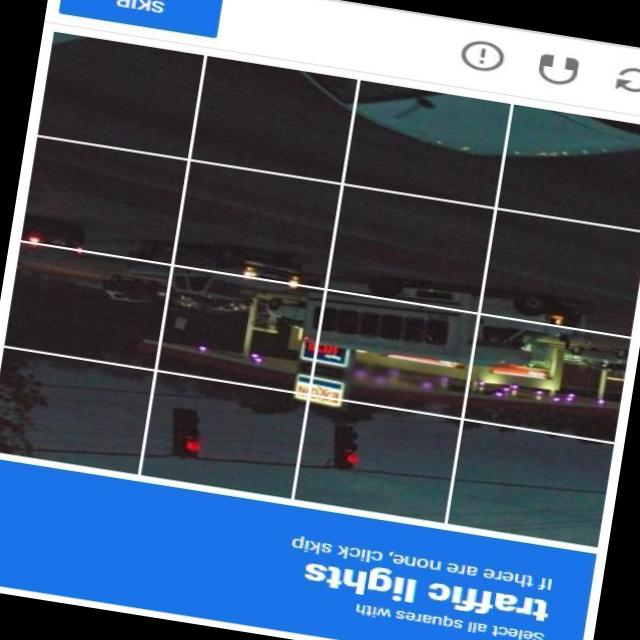red-lights: (334, 443, 362, 472), (176, 430, 204, 458)
